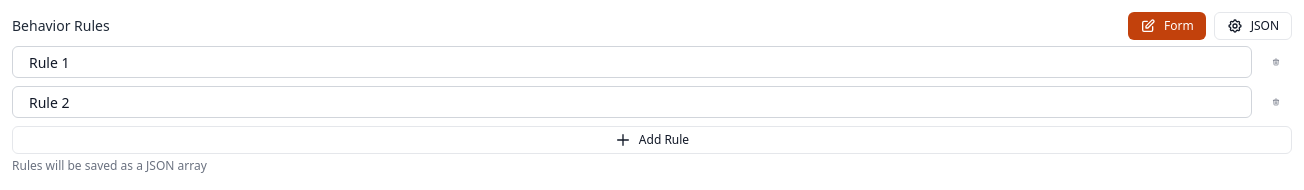
Test case: BehaviorRulesField › Form View › should remove a rule when clicking remove button
This screenshot has width=1304, height=190.
Click the 1st button titled "Remove rule" at (1276, 62), box x1=1260 y1=48 x2=1292 y2=76
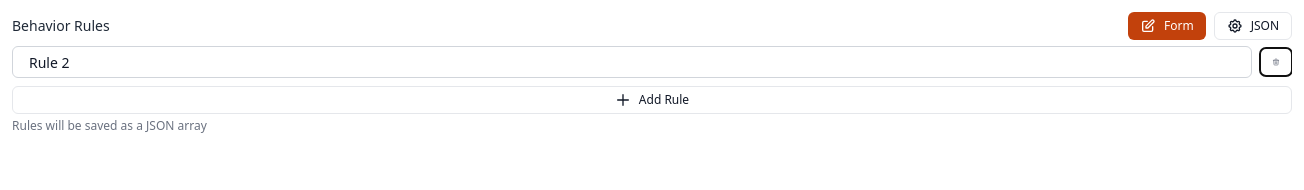
Check: the field showing "Rule 1" is not shown
Check: the field showing "Rule 2" is shown, box x1=12 y1=46 x2=1252 y2=78
